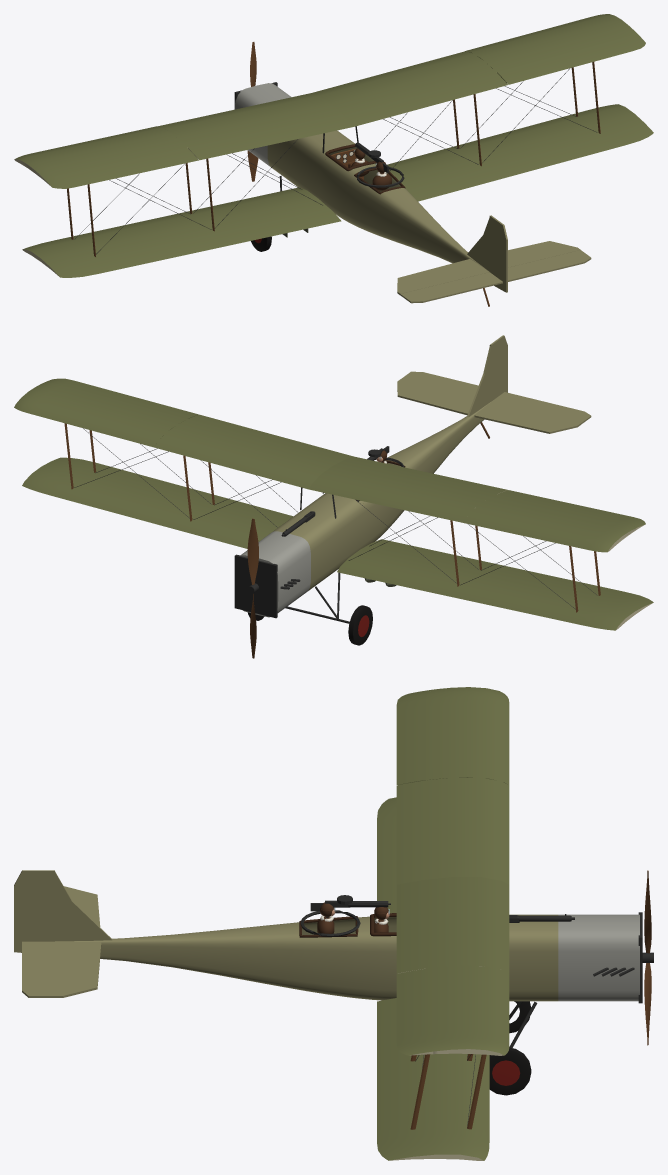
3 views of the same model, one above another, from view 1: azimuth 30°, elevation 25°; view 2: azimuth 150°, elevation 25°; view 3: azimuth 270°, elevation 25° (orthographic). The views are drawn at different scales.
Parts seen in each view (by area): view 1: Wing_Lower_L, Wing_Upper_R, Wing_Upper_L, Fuselage, Wing_Lower_R, Elevator, Aileron_R, Aileron_L, Stabilizer_L, Struts, Wires, Rudder (+4 smaller); view 2: Wing_Upper_R, Wing_Upper_L, Wing_Lower_L, Fuselage, Wing_Lower_R, Engine, Elevator, Stabilizer_L, Stabilizer_R, Struts, Wires, Aileron_R (+5 smaller); view 3: Fuselage, Wing_Upper_L, Wing_Upper_R, Wing_Lower_R, Rudder, Aileron_L, Aileron_R, Stabilizer_R, Wing_Lower_L, Wheels, Elevator, Fin (+4 smaller).
Boxes of the visible parts, left/top/right/bottom form: Wing_Lower_L: left=22, top=187, right=341, bottom=277; Wing_Upper_R: left=312, top=14, right=635, bottom=126; Wing_Upper_L: left=14, top=93, right=353, bottom=178; Fuselage: left=235, top=83, right=488, bottom=271; Wing_Lower_R: left=387, top=104, right=653, bottom=201; Elevator: left=400, top=250, right=591, bottom=303; Aileron_R: left=497, top=32, right=645, bottom=84; Aileron_L: left=42, top=148, right=198, bottom=188; Stabilizer_L: left=397, top=259, right=489, bottom=294; Struts: left=67, top=62, right=600, bottom=256; Wires: left=74, top=68, right=597, bottom=254; Rudder: left=489, top=215, right=507, bottom=292; Wing_Upper_R: left=14, top=383, right=353, bottom=489; Wing_Upper_L: left=309, top=456, right=635, bottom=552; Wing_Lower_L: left=337, top=539, right=653, bottom=630; Fuselage: left=240, top=402, right=490, bottom=617; Wing_Lower_R: left=22, top=457, right=292, bottom=548; Engine: left=234, top=554, right=300, bottom=618; Elevator: left=401, top=371, right=591, bottom=424; Stabilizer_L: left=474, top=401, right=580, bottom=433; Stabilizer_R: left=397, top=379, right=473, bottom=415; Struts: left=64, top=423, right=600, bottom=612; Wires: left=74, top=428, right=597, bottom=609; Aileron_R: left=43, top=378, right=198, bottom=418; Fuselage: left=55, top=914, right=639, bottom=1001; Wing_Upper_L: left=396, top=687, right=509, bottom=884; Wing_Upper_R: left=396, top=877, right=509, bottom=1055; Wing_Lower_R: left=377, top=998, right=489, bottom=1160; Rudder: left=14, top=870, right=54, bottom=952; Aileron_L: left=396, top=689, right=432, bottom=784; Aileron_R: left=396, top=969, right=433, bottom=1055; Stabilizer_R: left=55, top=941, right=101, bottom=997; Wing_Lower_L: left=377, top=797, right=396, bottom=913; Wheels: left=489, top=1001, right=531, bottom=1095; Elevator: left=22, top=941, right=54, bottom=997; Fin: left=55, top=871, right=112, bottom=941.
Size of the model in its own units: 12.92 by 3.27 by 9.65.
